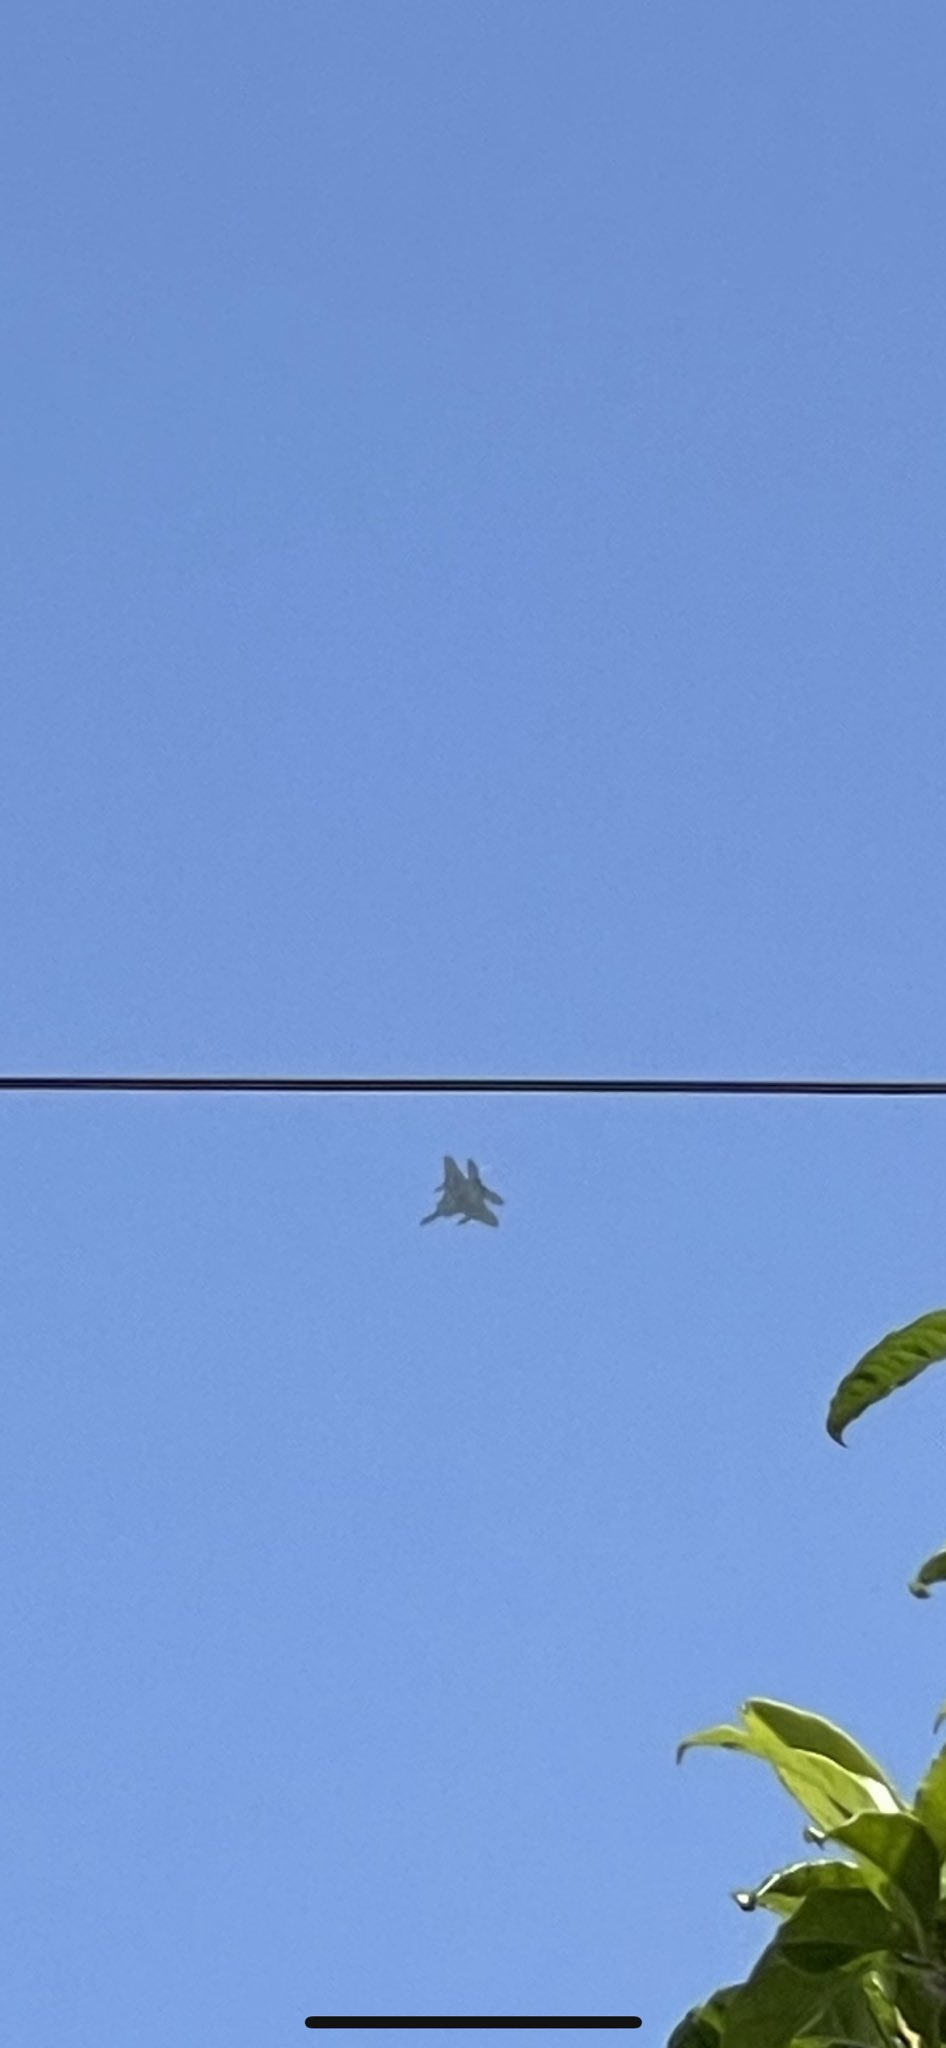airplane: (417, 1155, 504, 1229)
